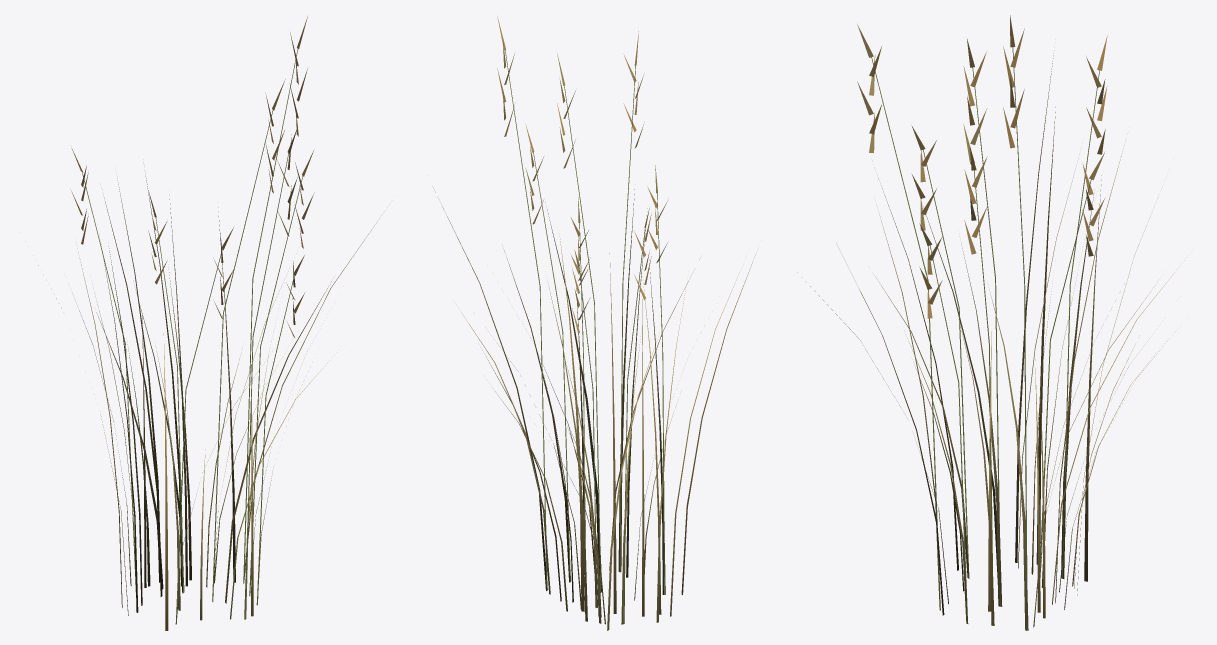
File: grass-dry-b.lod0.glb
3 renders of one model, left to right at view 1: azimuth 30°, elevation 25°; view 2: azimuth 150°, elevation 25°; view 3: azimuth 270°, elevation 25°, orthographic. The views are drawn at different scales.
Visible parts, largest first — view 1: grass-dry-b.lod0; view 2: grass-dry-b.lod0; view 3: grass-dry-b.lod0.
Part boxes in pixels (box(x1,y1,x2,y2)): grass-dry-b.lod0: box(38, 16, 381, 630); grass-dry-b.lod0: box(432, 16, 755, 630); grass-dry-b.lod0: box(797, 15, 1184, 630).
Bounding box in the file's own units: 1.11 × 1.68 × 0.9684.
